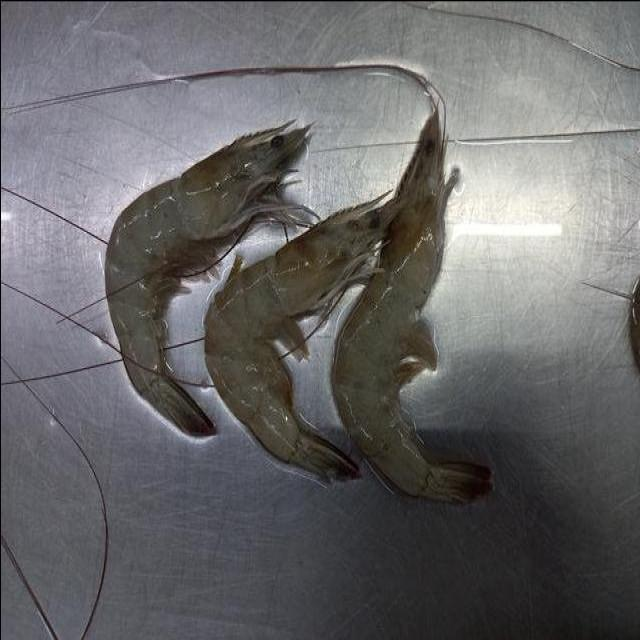shrimp: (104, 122, 314, 434), (331, 110, 491, 501), (204, 197, 396, 479)
